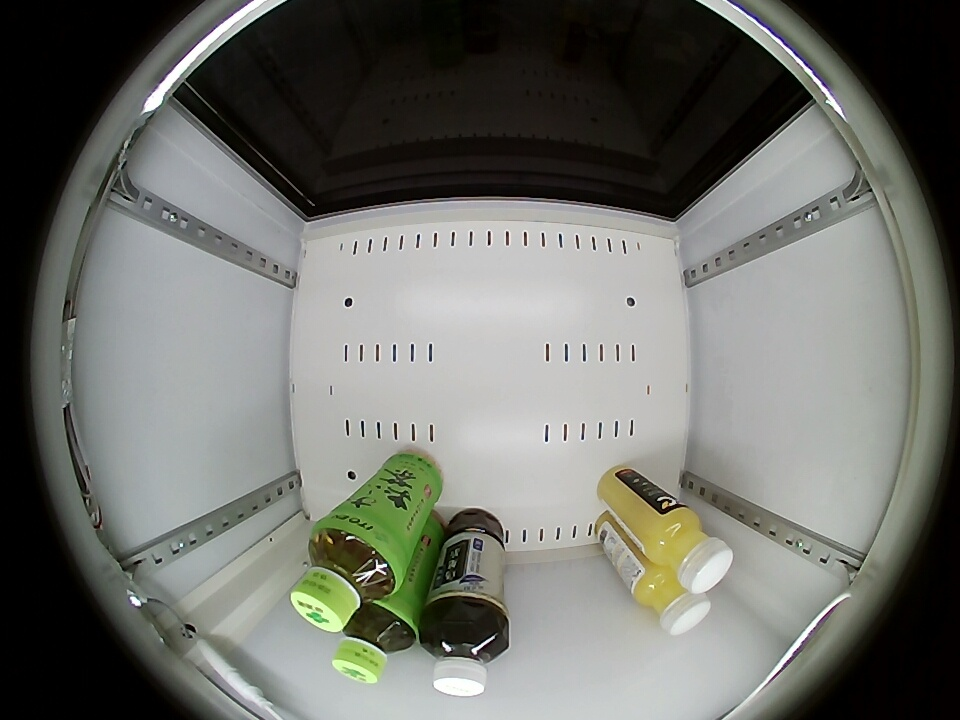nfc: (641, 506, 733, 592), (633, 565, 711, 634)
wulongcha: (423, 609, 509, 698)
yitengyuan: (292, 518, 406, 632), (333, 600, 416, 684)
